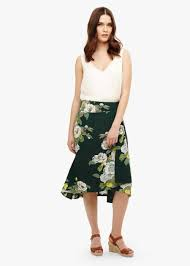C_skirt: (50, 98, 135, 205)
C_tank top: (72, 45, 132, 102)
